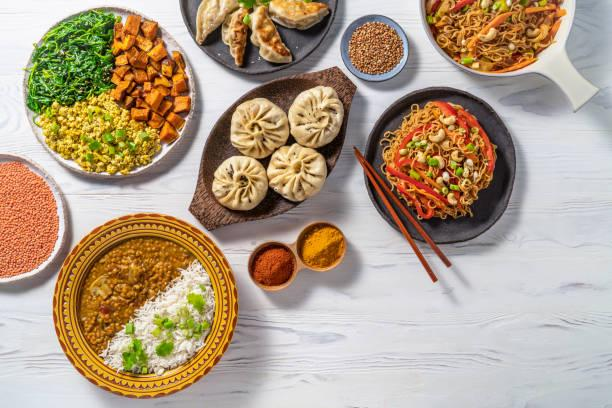Braised Crucian Carp: (51, 212, 235, 397), (22, 4, 196, 179), (189, 66, 355, 232), (364, 85, 516, 245), (423, 0, 577, 77), (181, 0, 338, 75)
